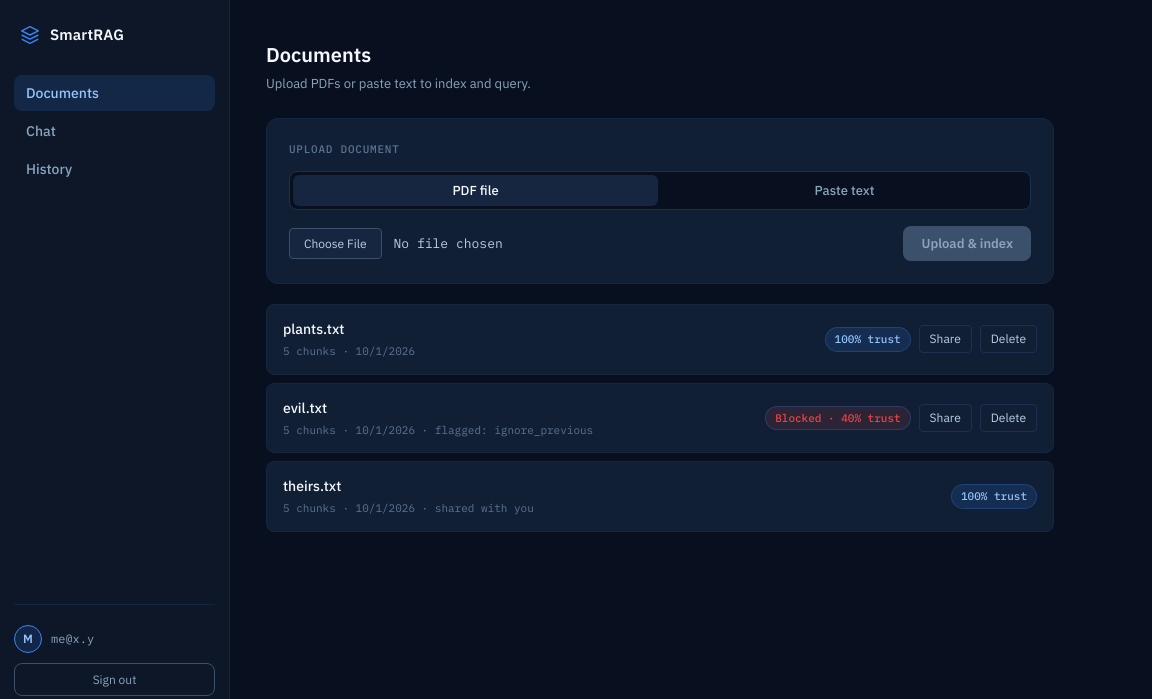
documents › indexes pasted text, reports the result, and refreshes the list
The width and height of the screenshot is (1152, 699).
Expected: the text "plants.txt" is shown, [283,320,344,338]
Click the button "Paste text" at (844, 190), box [662,175,1027,206]
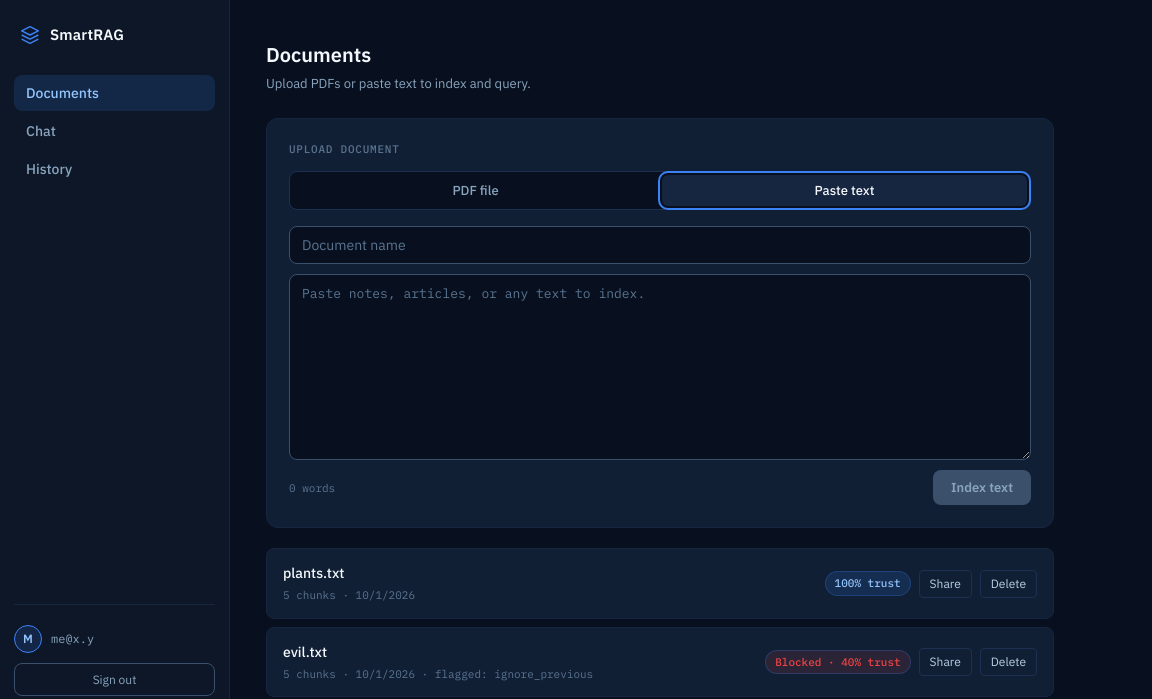
Type "notes" into the field labelled "Document name" at (660, 245), box [289,226,1031,264]
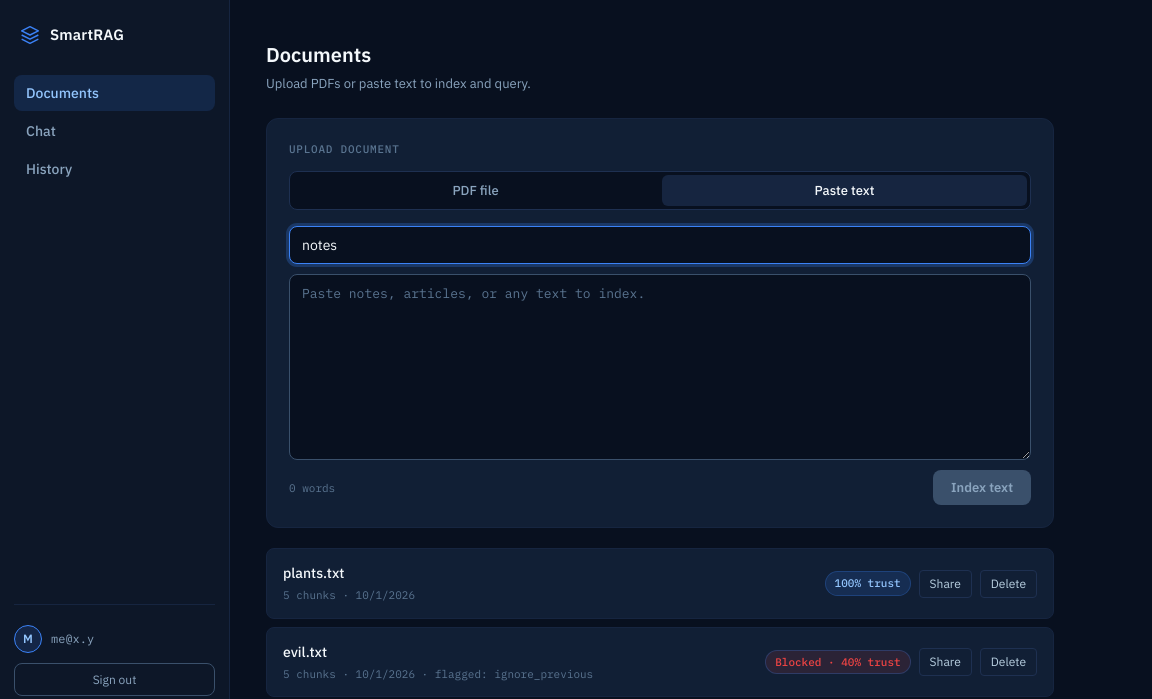
Type "some words to index" into the text box named "Document text" at (660, 367), box [289,274,1031,460]
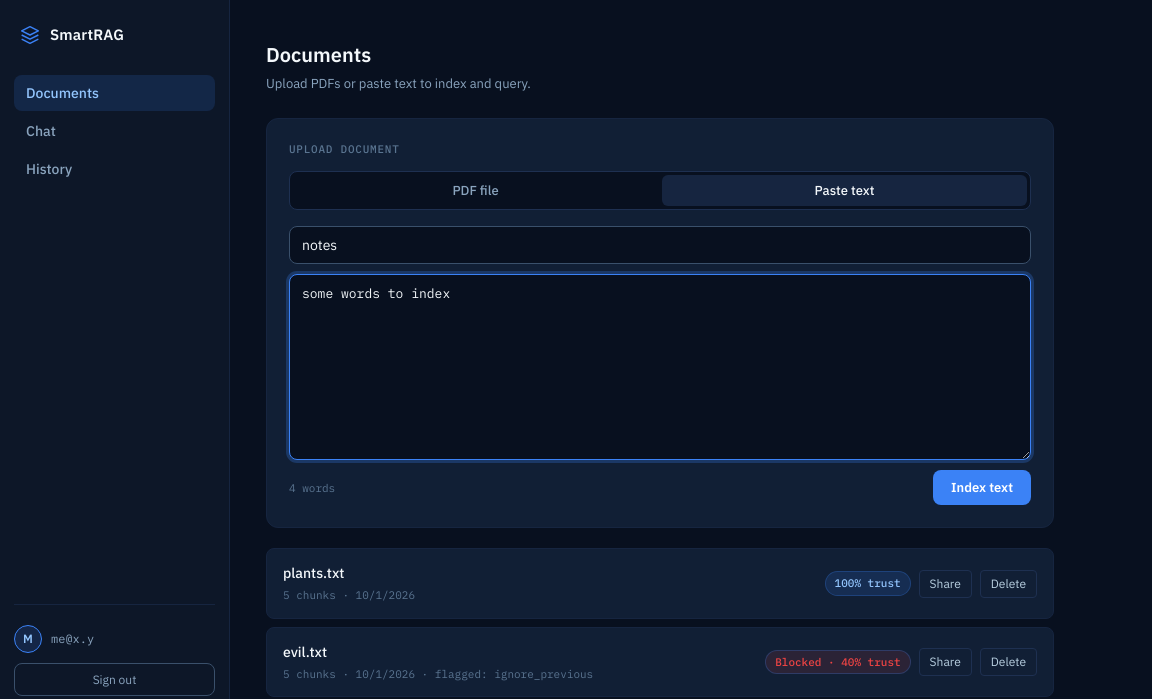
Expected: the text "4 words" is shown, [289,480,335,496]
Click the button "Index text" at (982, 488), box [933,470,1031,505]
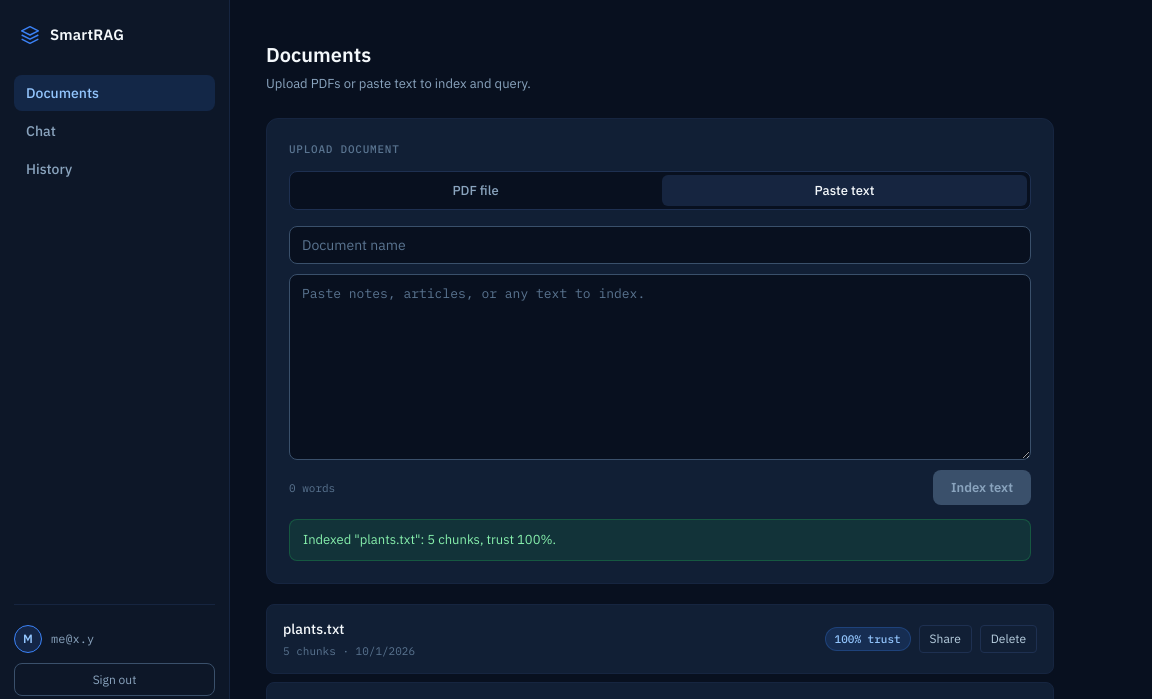
Expected: the text "Indexed \"plants.txt\": 5 chunks, trust 100%." is shown, [289,519,1031,561]
